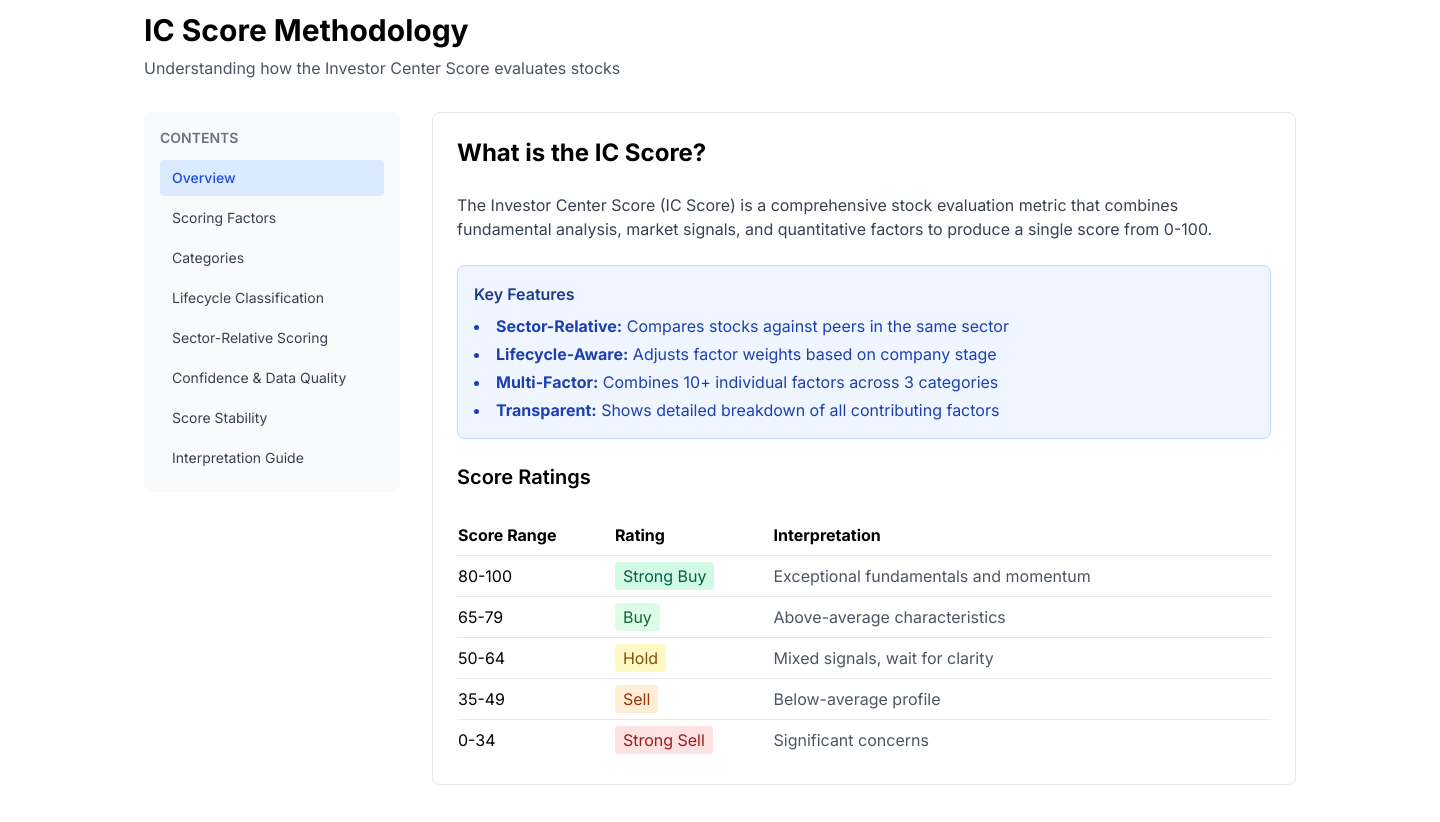
Test: ICScoreMethodology › switches to Scoring Factors section when clicked
Click the button "Scoring Factors": (272, 218) [160, 200, 384, 236]
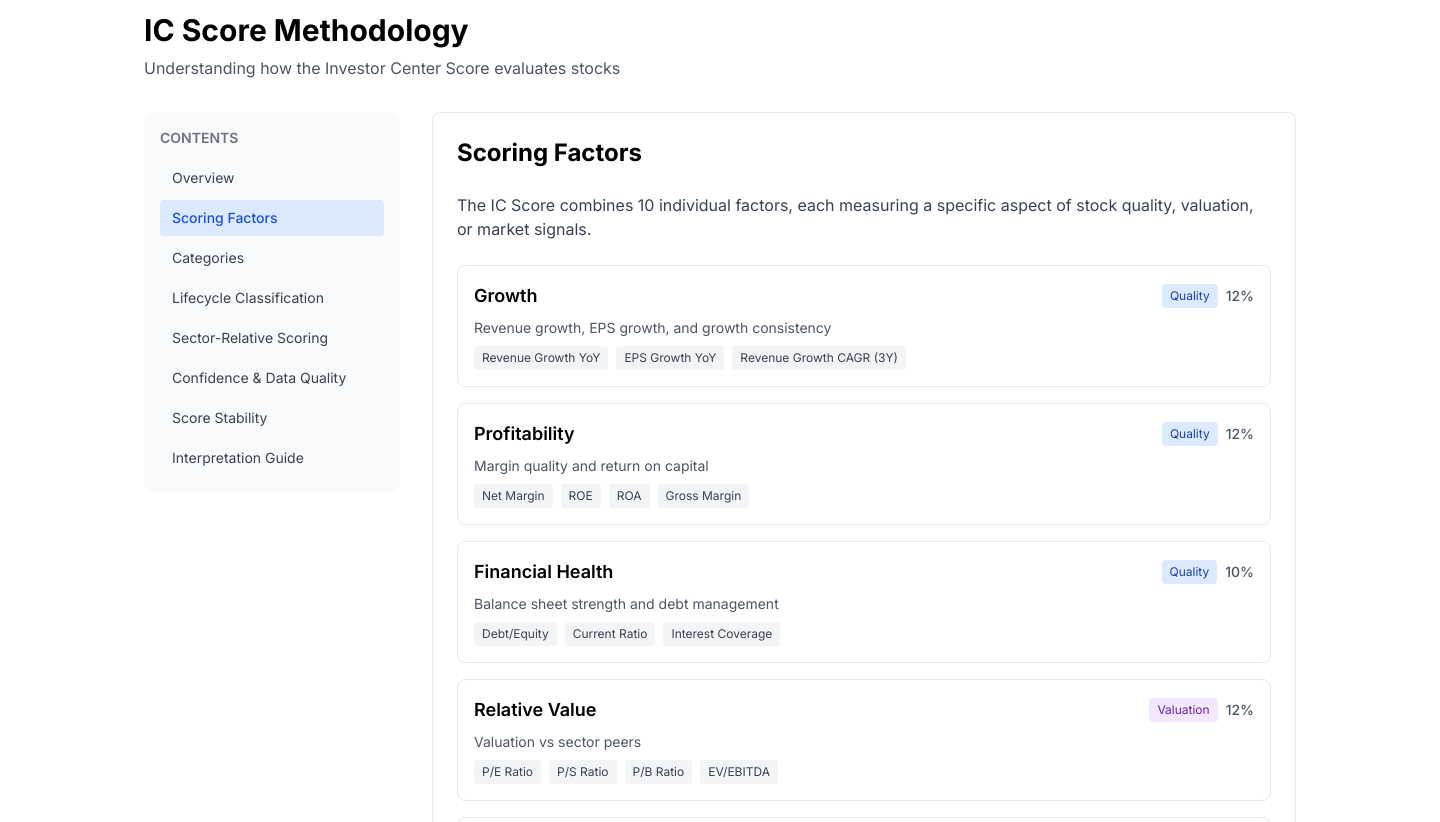
Result: the heading "Scoring Factors" is shown at [457, 138, 642, 167]
Result: the text "The IC Score combines 10 individual factors, each measuring a specific aspect of stock quality, valuation, or market sig" is shown at [457, 195, 1254, 239]
